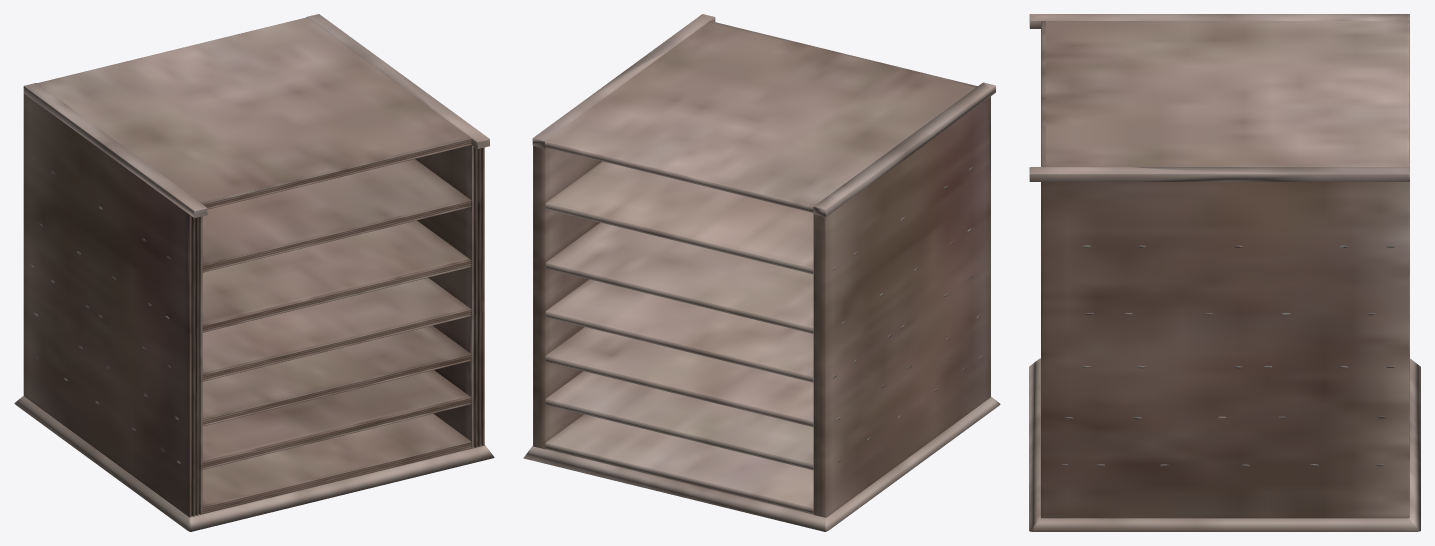
Rendered from ph-wooden-bookshelf-worn.glb.
3 renders of one model, left to right at view 1: azimuth 30°, elevation 25°; view 2: azimuth 150°, elevation 25°; view 3: azimuth 270°, elevation 25°, orthographic. The views are drawn at different scales.
Parts seen in each view (by area): view 1: wooden_bookshelf_worn; view 2: wooden_bookshelf_worn; view 3: wooden_bookshelf_worn.
Boxes of the visible parts, x1,y1,x2,y2 form: wooden_bookshelf_worn: (14, 14, 494, 531); wooden_bookshelf_worn: (523, 14, 1000, 531); wooden_bookshelf_worn: (1029, 14, 1420, 531).
Bounding box in the file's own units: 1 × 1 × 1.
Materials: 1 (1 with a texture image).
